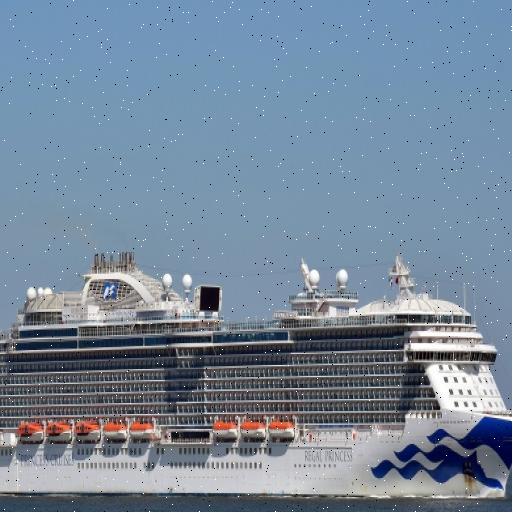cruises: (1, 227, 512, 505)
